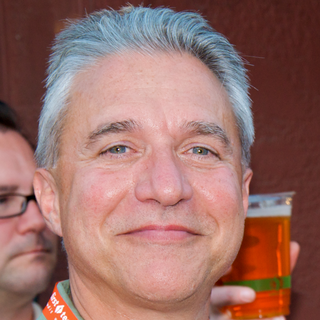eye: (95, 139, 144, 161), (176, 142, 222, 162)
